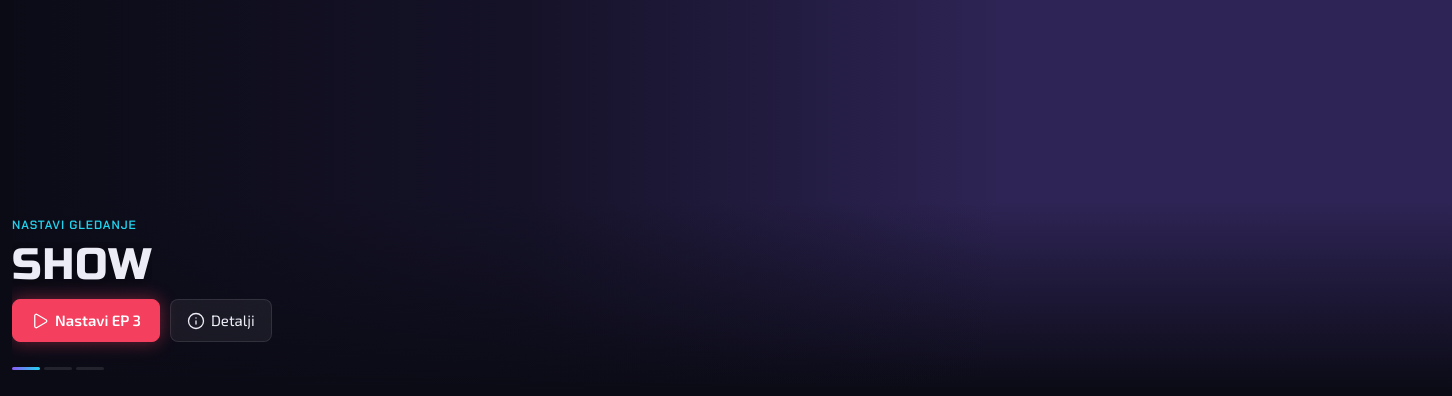
Test: HomeHero › has no dots for one series; three series get three dots and a click changes the slide
expect the heading "Show" is shown: met, box [12,242,152,287]
expect the heading "Second" is not shown: met
Click the button named "Serija 2 od 3" at (58, 368), box [44,356,72,380]
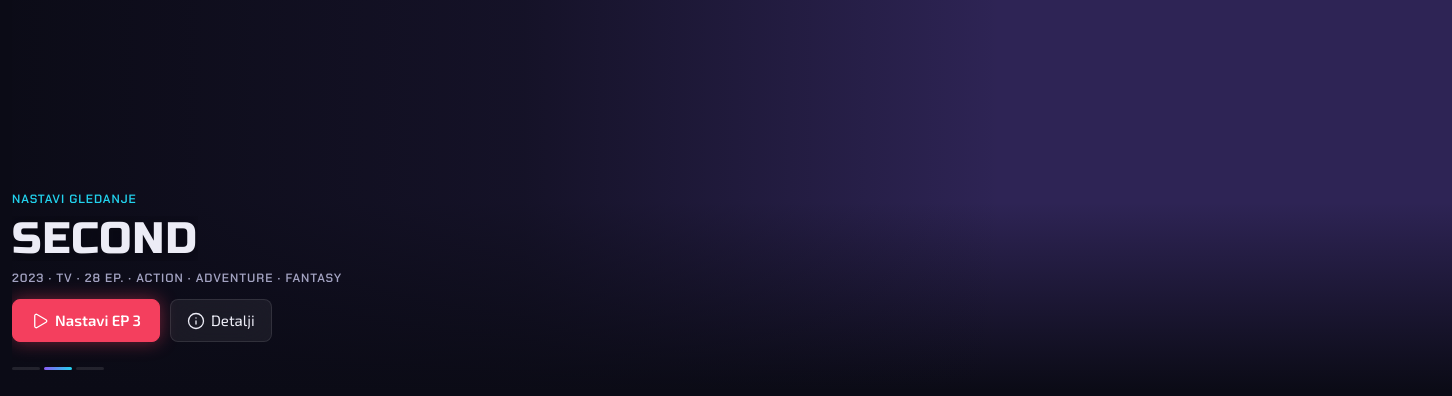
expect the heading "Second" is shown: met, box [12,216,198,261]
